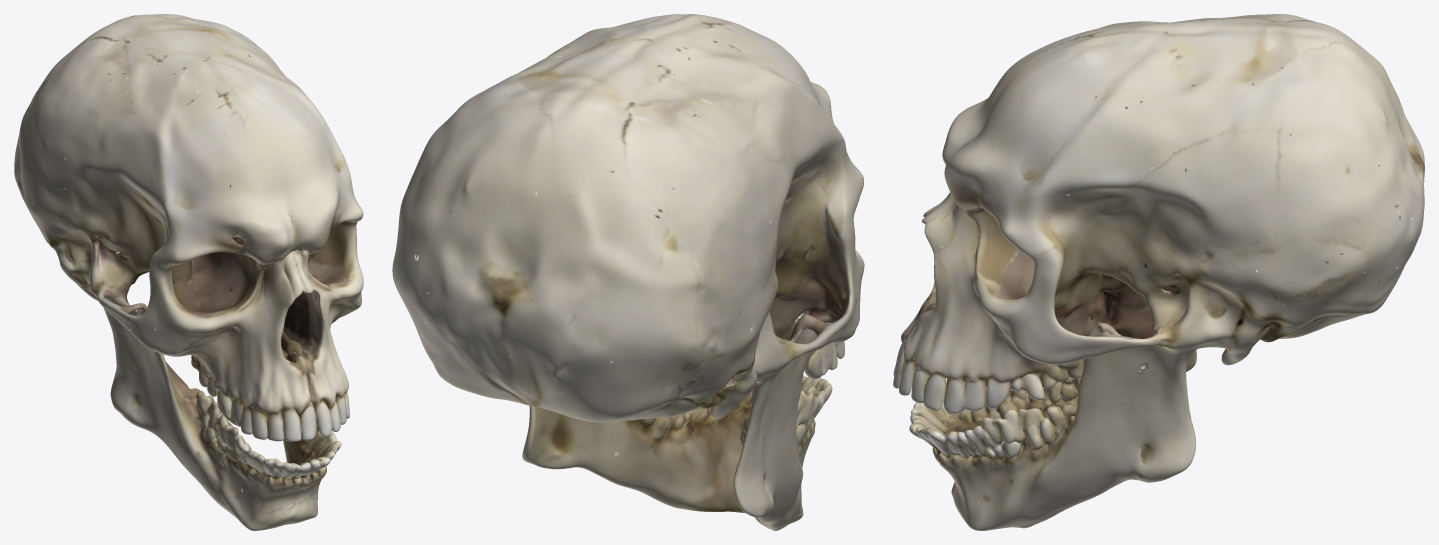
File: skull_half_wide.glb
3 views of the same model, side by side, from view 1: azimuth 30°, elevation 25°; view 2: azimuth 150°, elevation 25°; view 3: azimuth 270°, elevation 25° (orthographic). The views are drawn at different scales.
Bounding box in the file's own units: 1.28 × 2 × 1.99.
Materials: 1 (1 with a texture image).
